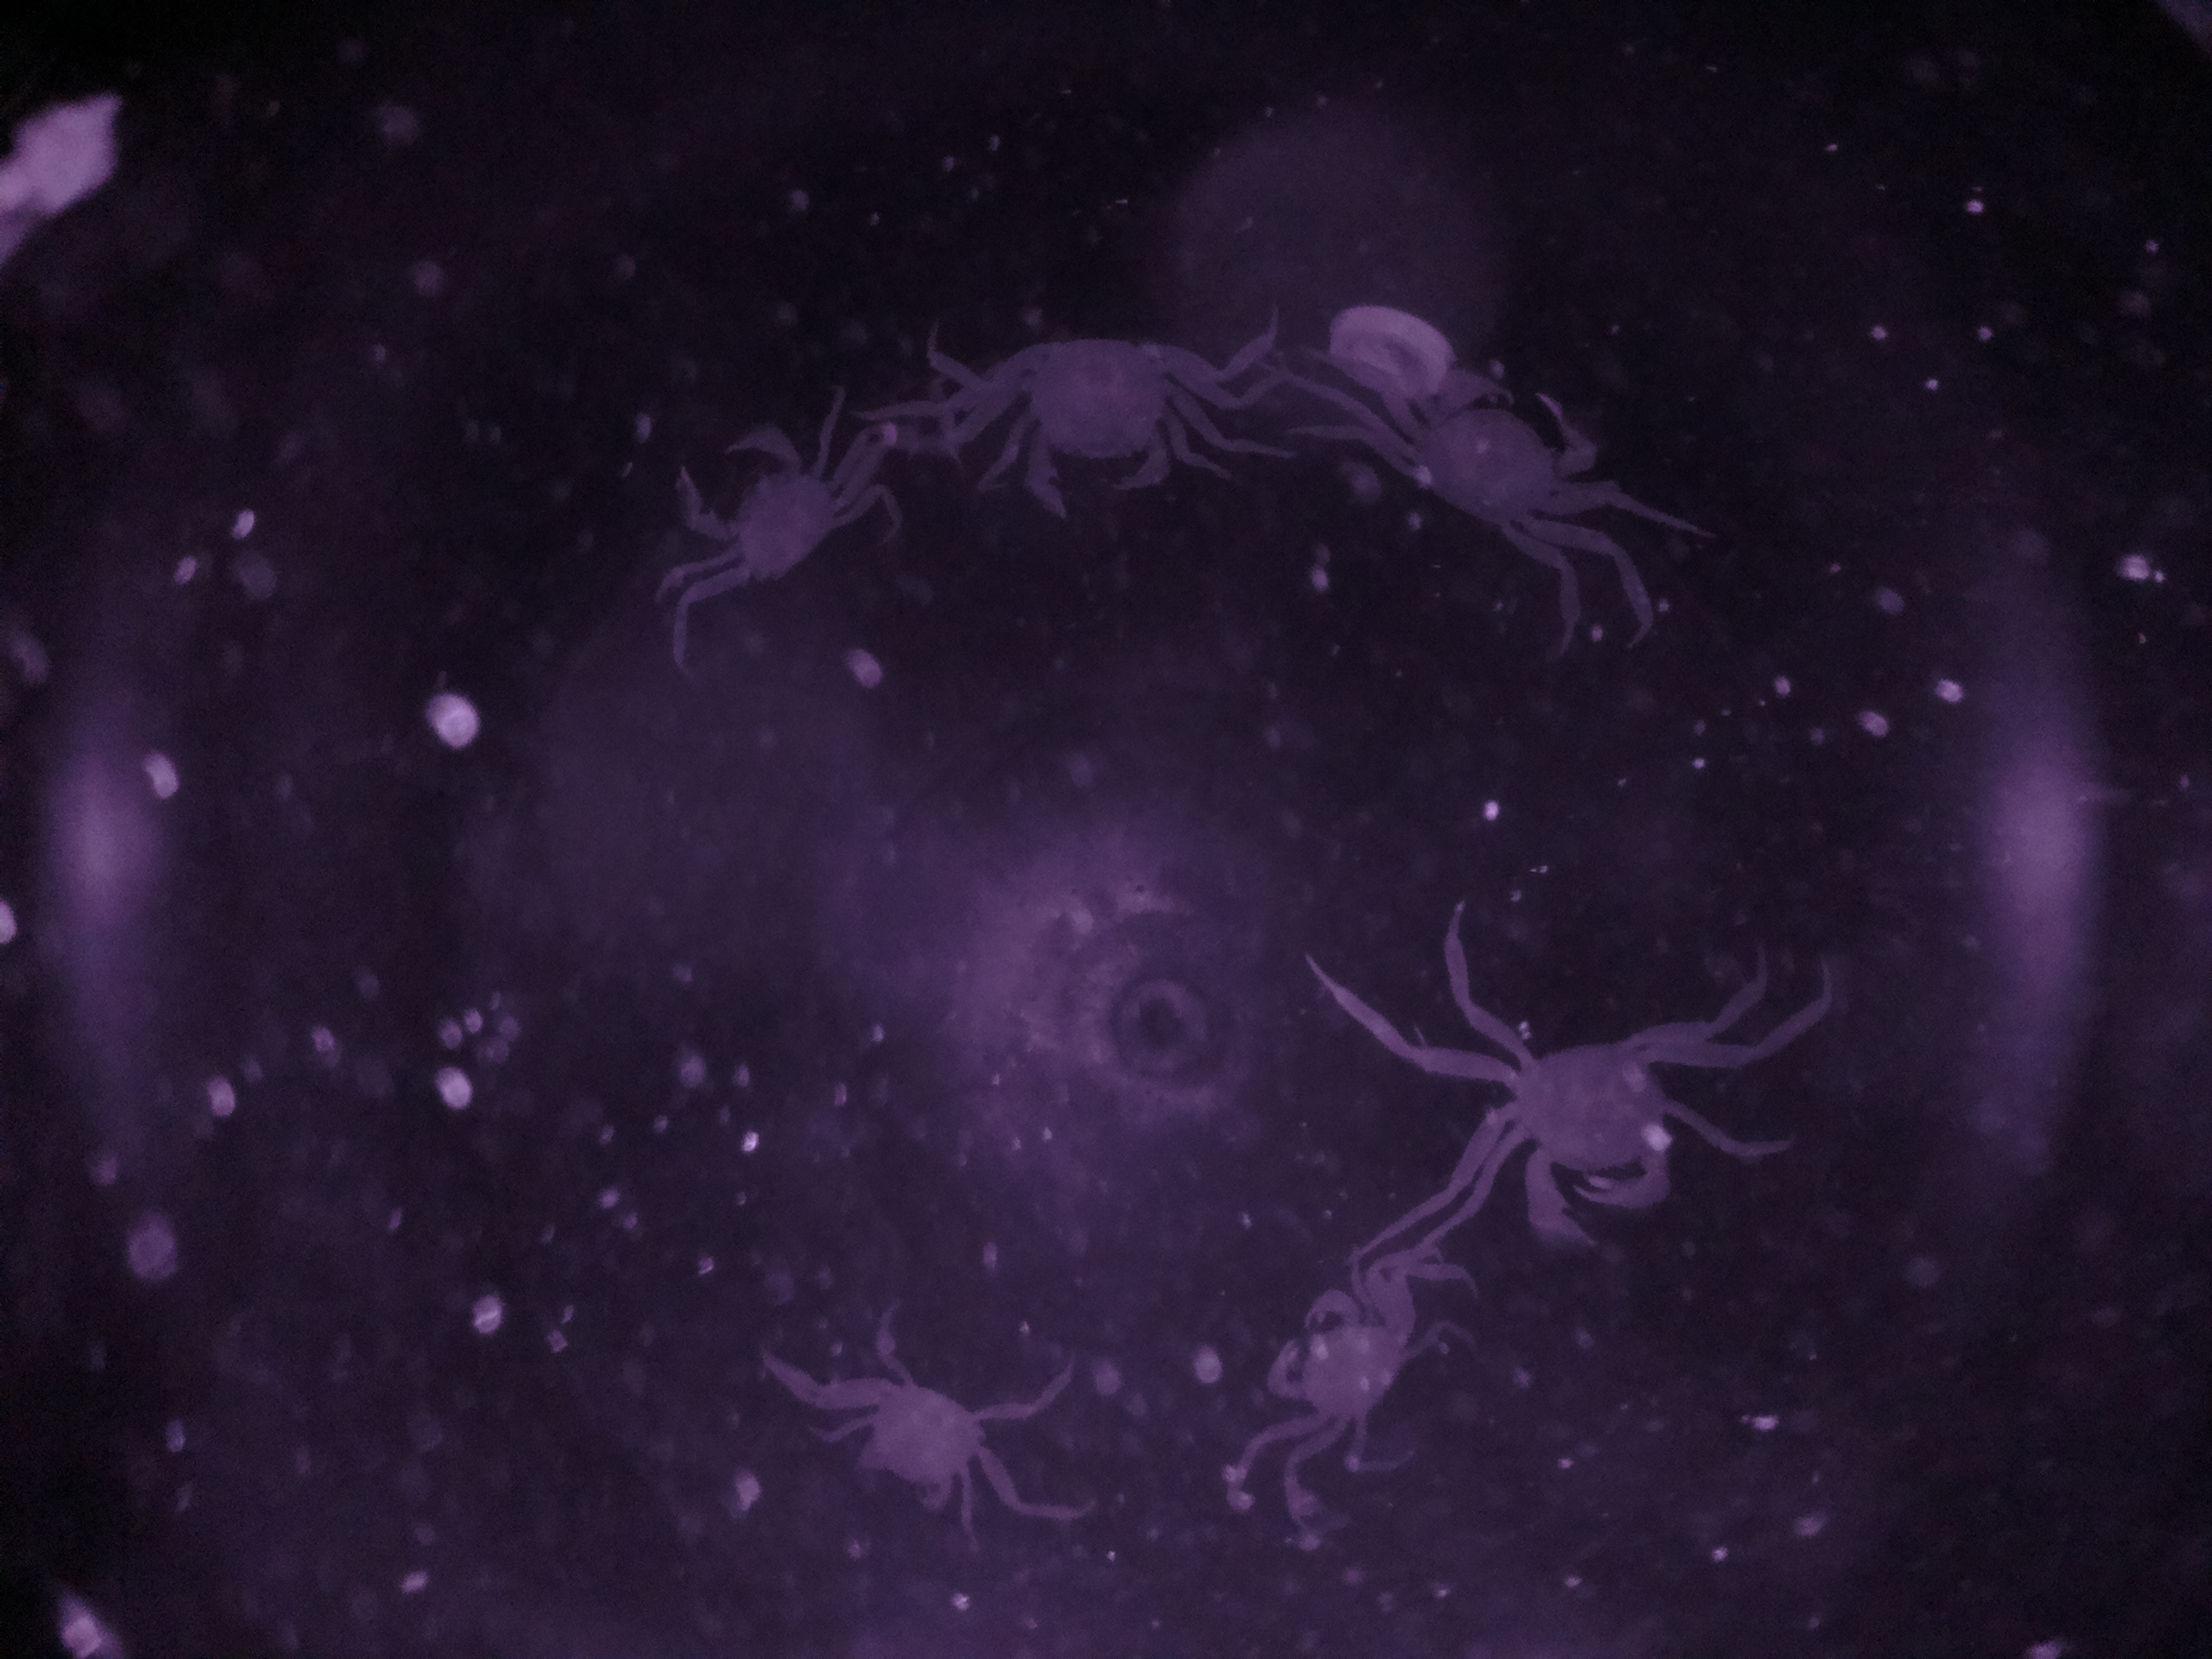Crab: (1453, 999, 1771, 1256), (935, 310, 1261, 549), (1357, 362, 1644, 575), (1221, 1263, 1451, 1488), (646, 406, 881, 617), (819, 1344, 1015, 1523)
